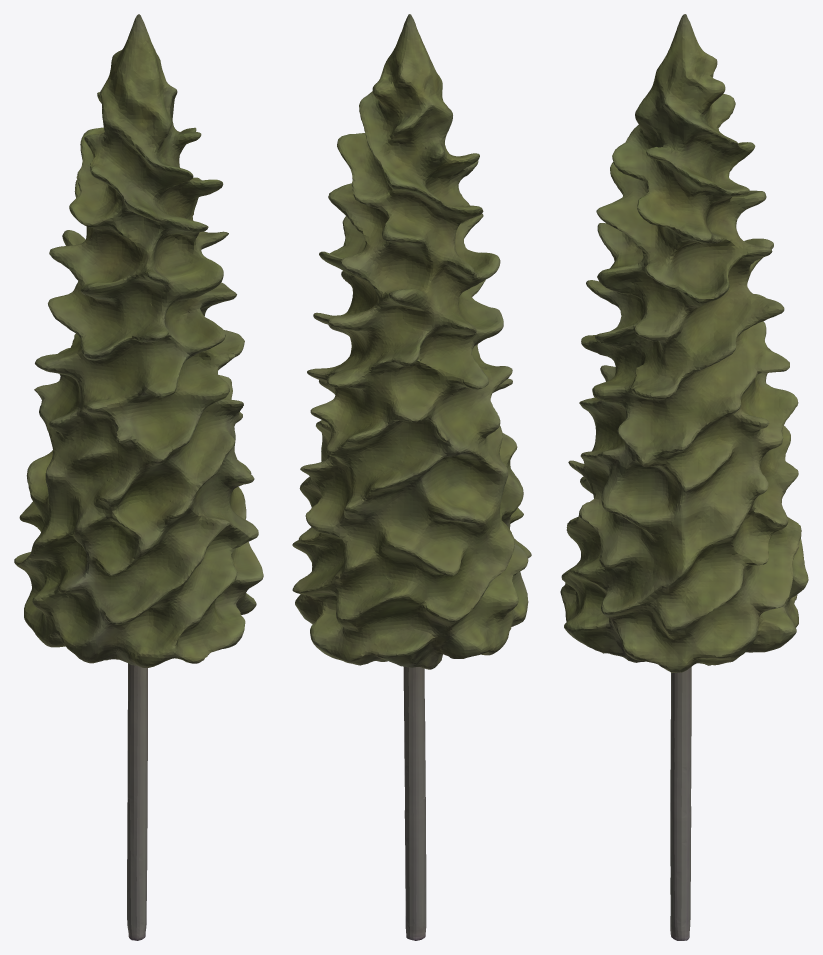
3 renders of one model, left to right at view 1: azimuth 30°, elevation 25°; view 2: azimuth 150°, elevation 25°; view 3: azimuth 270°, elevation 25°, orthographic.
Visible parts, largest first — view 1: world; view 2: world; view 3: world.
Part boxes in pixels (bbox=[...]): world: bbox=[14, 14, 263, 940]; world: bbox=[292, 14, 531, 940]; world: bbox=[560, 14, 808, 940].
Bounding box in the file's own units: 0.2398 × 0.9997 × 0.2426.
